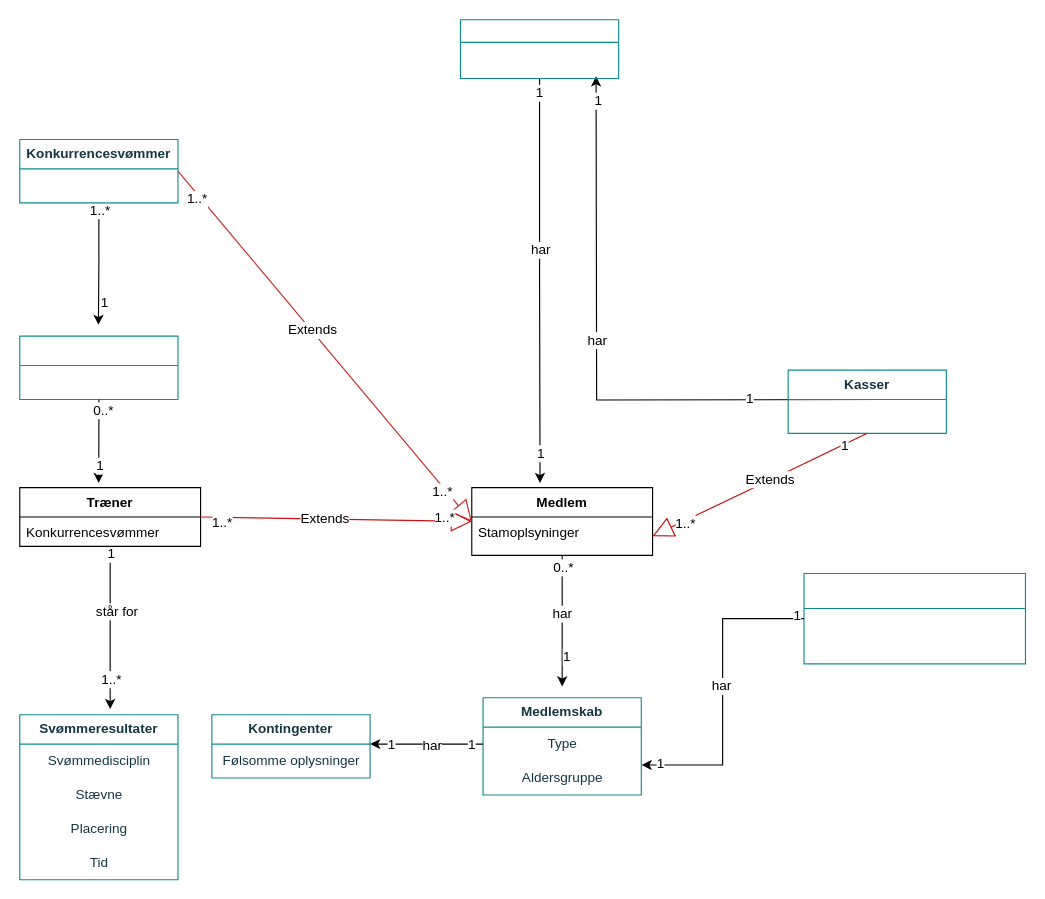
This 1045x899 diagram has some shape labels left out. The shapes that lost their labels are listed below. From the top down, each one's centre as x and y in pixels, then its label:
(x=539, y=49): Klubben Delfinen
(x=98, y=367): Hold
(x=914, y=618): Formand
